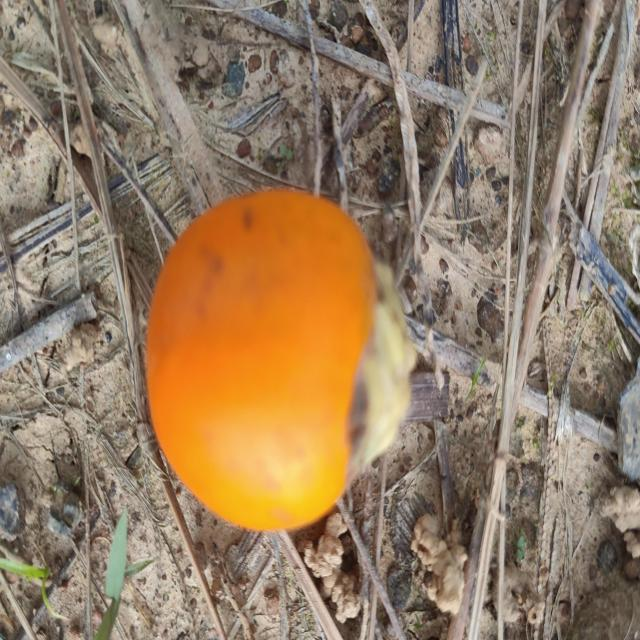good: (147, 190, 417, 530)
